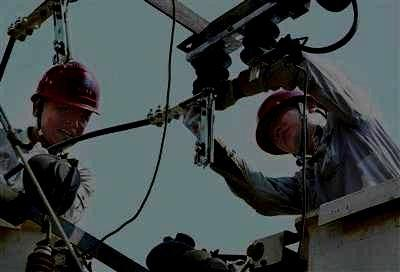helmet: (31, 59, 101, 150), (254, 89, 317, 156)
